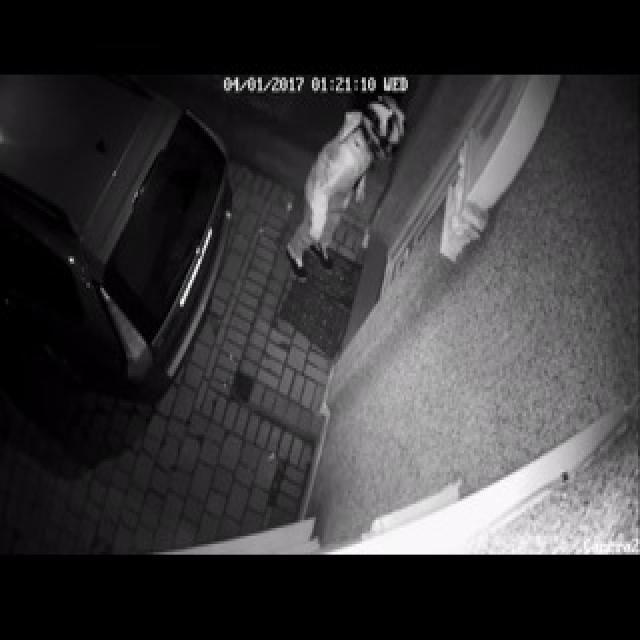thief: (315, 90, 404, 274)
